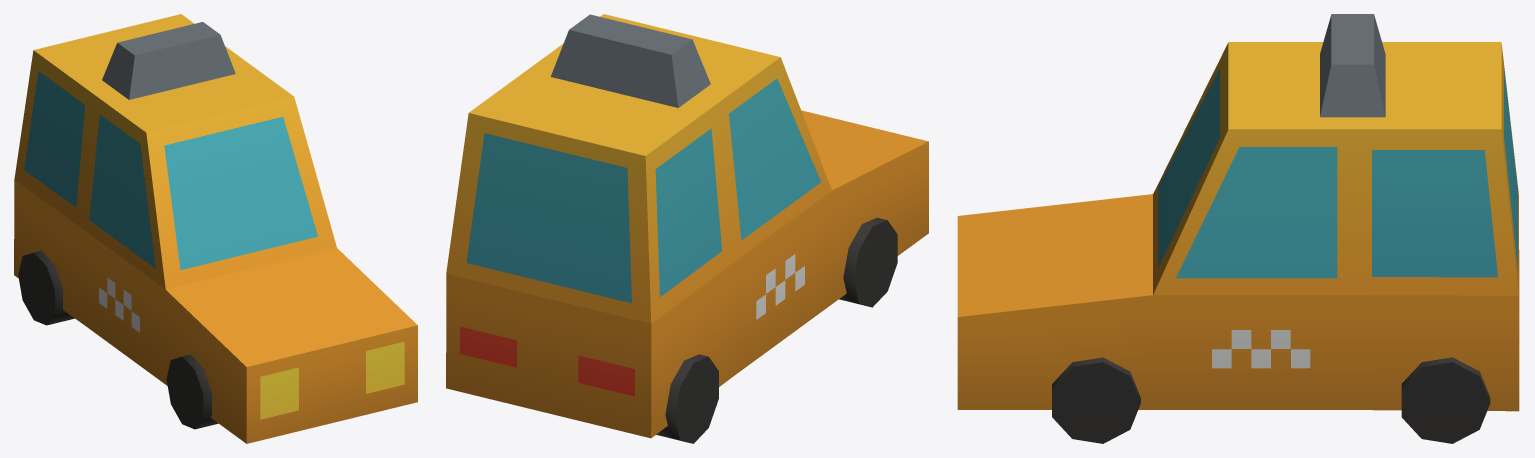
The model's file is Car_2_1.fbx.
3 views of the same model, side by side, from view 1: azimuth 30°, elevation 25°; view 2: azimuth 150°, elevation 25°; view 3: azimuth 270°, elevation 25° (orthographic). The views are drawn at different scales.
Visible parts, largest first — view 1: Car_2_1; view 2: Car_2_1; view 3: Car_2_1.
Part boxes in pixels (<box>): Car_2_1: <box>14,14,417,443</box>; Car_2_1: <box>446,14,928,443</box>; Car_2_1: <box>957,14,1519,443</box>.
Bounding box in the file's own units: 212 × 311 × 455.
